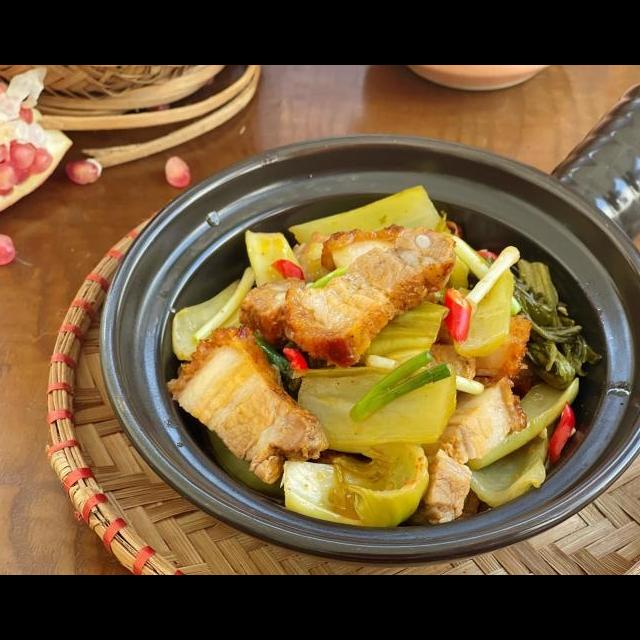dua chua: (268, 293, 462, 533), (460, 251, 606, 514), (168, 226, 305, 368), (284, 181, 456, 287), (437, 246, 525, 362)
thit heo quay: (229, 217, 463, 373), (159, 323, 331, 489), (406, 373, 538, 532), (418, 312, 536, 393)
